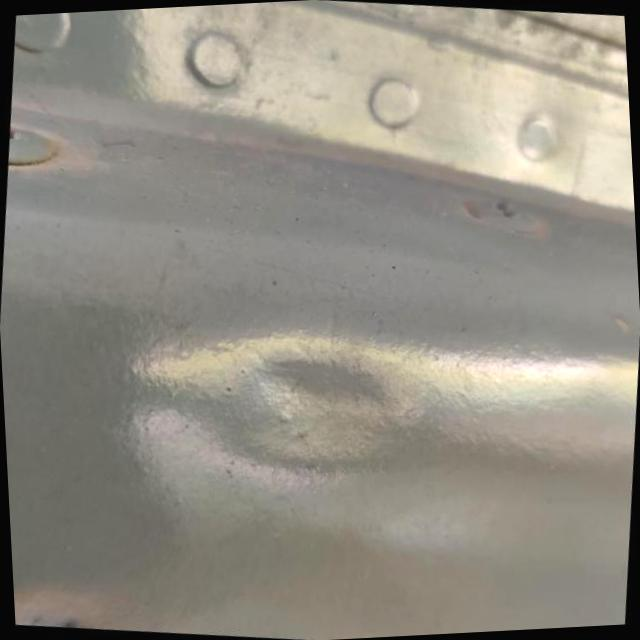dent: (121, 327, 438, 495)
